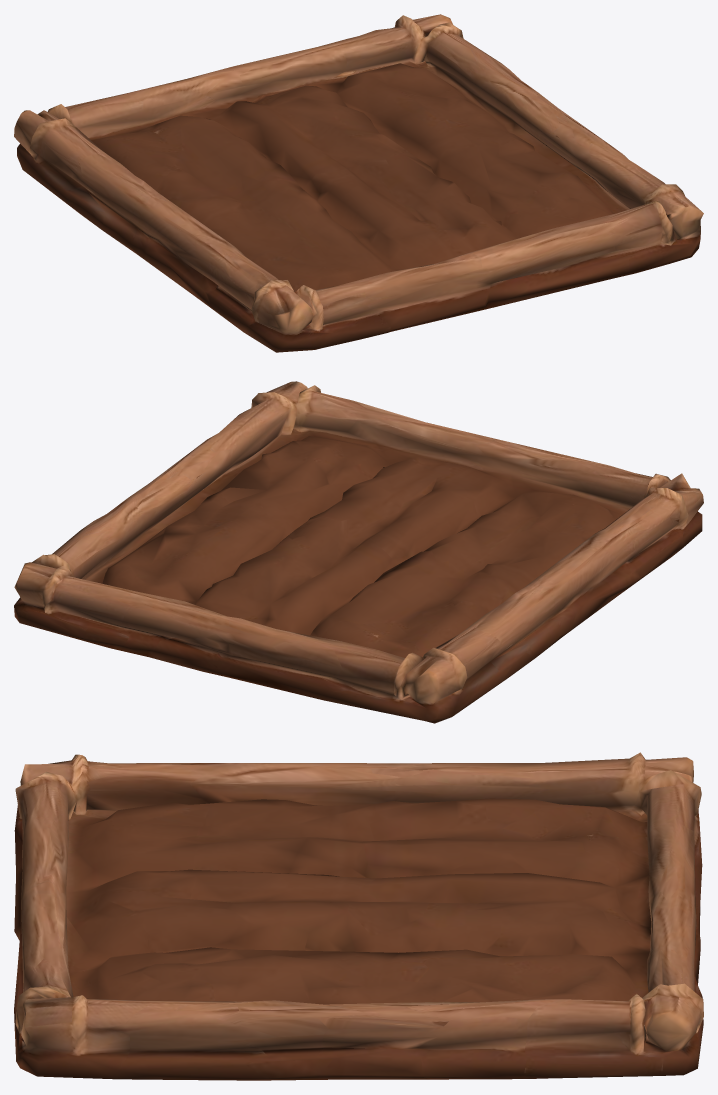
The model's file is field_plot_l2.glb.
3 renders of one model, top to bottom at view 1: azimuth 30°, elevation 25°; view 2: azimuth 150°, elevation 25°; view 3: azimuth 270°, elevation 25°, orthographic. The views are drawn at different scales.
Visible parts, largest first — view 1: tripo_node_1547a90d-ac42-45af-86b9-b064a0865b28; view 2: tripo_node_1547a90d-ac42-45af-86b9-b064a0865b28; view 3: tripo_node_1547a90d-ac42-45af-86b9-b064a0865b28.
Boxes of the visible parts, left/top/right/bottom form: tripo_node_1547a90d-ac42-45af-86b9-b064a0865b28: left=14, top=14, right=703, bottom=352; tripo_node_1547a90d-ac42-45af-86b9-b064a0865b28: left=14, top=381, right=703, bottom=723; tripo_node_1547a90d-ac42-45af-86b9-b064a0865b28: left=14, top=752, right=703, bottom=1080.
Bounding box in the file's own units: 0.8978 × 0.1181 × 0.9751.
1 material, 1 textured.
